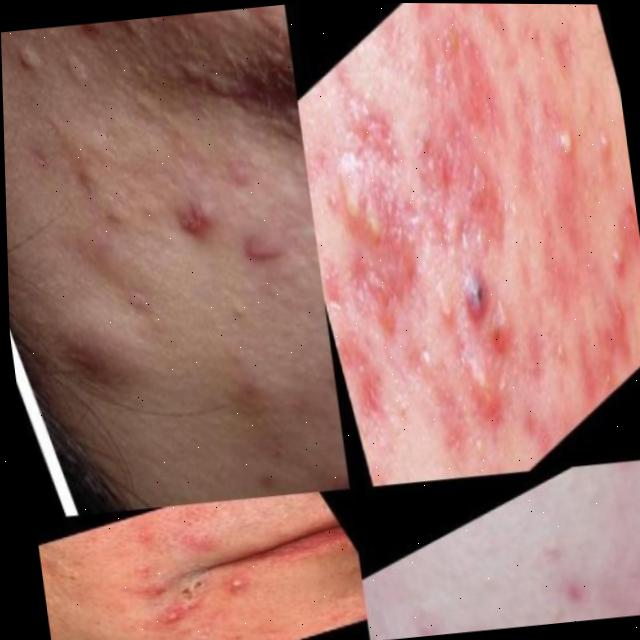Acne: (311, 55, 631, 430), (5, 9, 267, 369), (511, 519, 640, 627), (66, 559, 226, 640)
